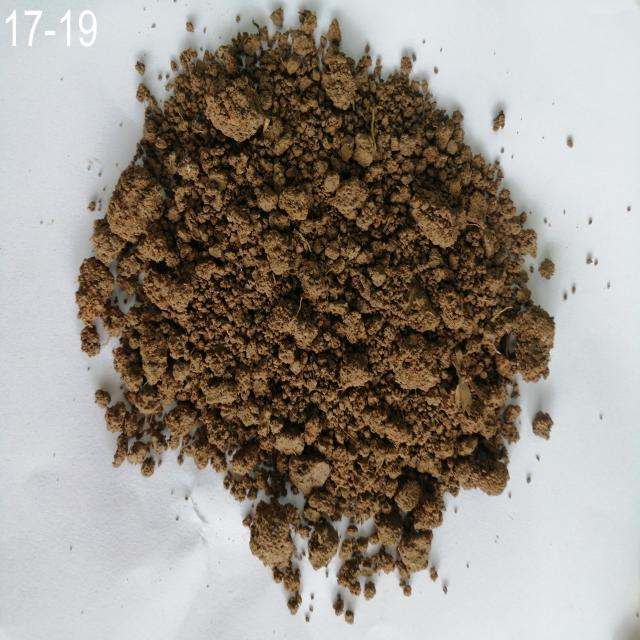soil: (193, 101, 474, 487)
